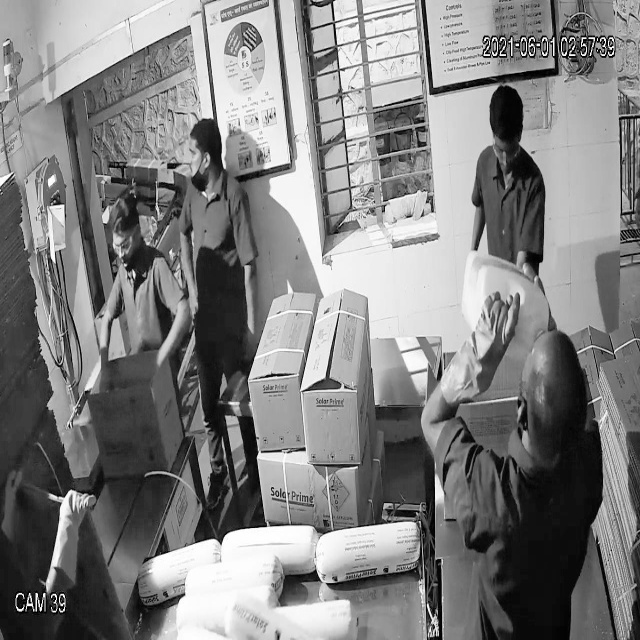Gafas: (107, 227, 148, 262)
